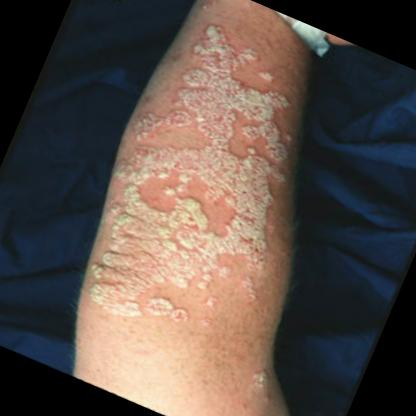Psoriasis: (75, 16, 334, 360)
